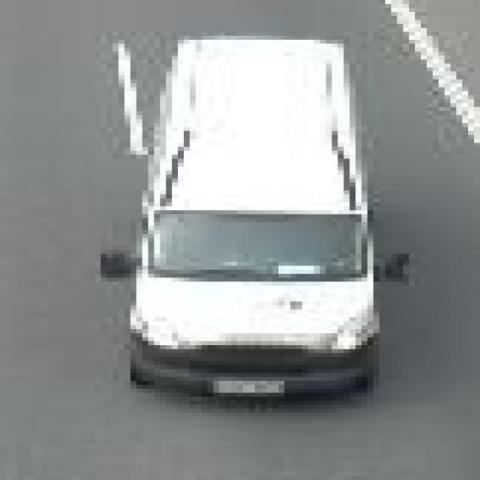van: (134, 42, 364, 399)
